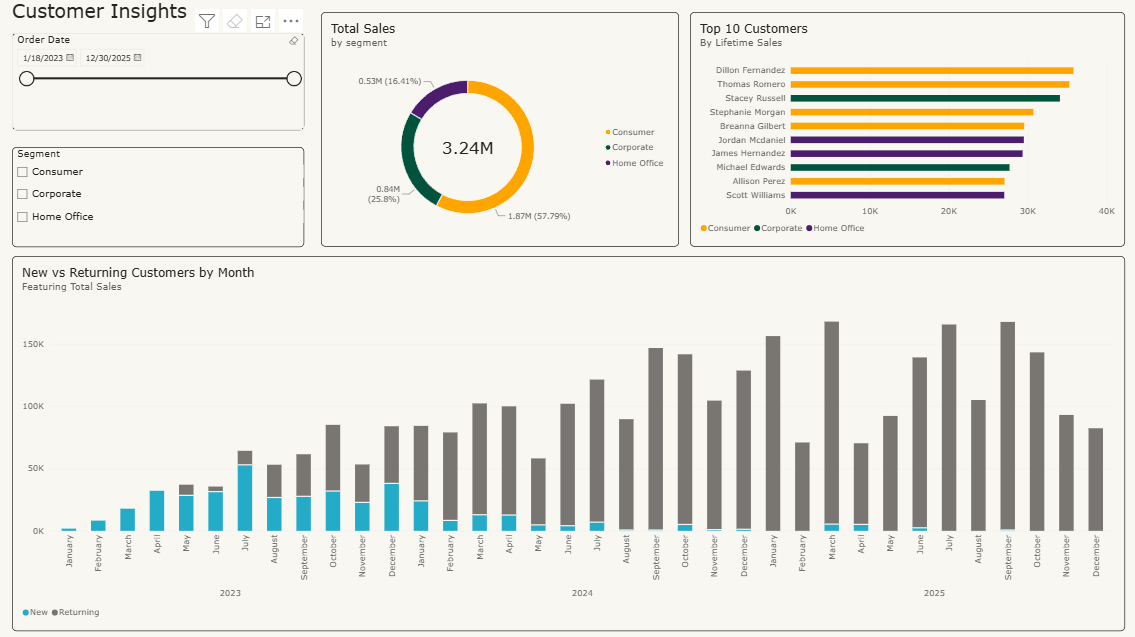

The page's visual inventory and layout, read from the dashboard file:
{"tool":"powerbi","page":{"name":"Page 3","canvas":[1920,1080],"ordinal":2},"visuals":[{"type":"textbox","box":[21.9,0,302,42.2],"z":0},{"type":"donutChart","fields":{"Y":["orders.Total Sales"],"Category":["customers.segment"]},"box":[543.3,21.9,604,396.5],"z":1000},{"type":"barChart","title":"Top 10 Customers","fields":{"Category":["customers.customer_name"],"Y":["orders.Total Sales"],"Series":["customers.segment"]},"box":[1165.8,21.9,733.9,396.5],"z":2000},{"type":"columnChart","title":"New vs Returning Customers by Month","fields":{"Series":["orders.Customer Status"],"Y":["orders.Total Sales"],"Category":["orders.order_date.Variation.Date Hierarchy.Year","orders.order_date.Variation.Date Hierarchy.Month"]},"box":[21.9,433.6,1877.8,632.7],"z":3000},{"type":"slicer","fields":{"Values":["orders.order_date"]},"box":[21.9,57.4,492.7,163.7],"z":4000},{"type":"slicer","fields":{"Values":["customers.segment"]},"box":[21.9,249.7,492.7,168.7],"z":5000}]}

Visuals, with their boxes in screenshot pixels (x1, y1, x2, y2), scaled from the page's 1920x1080 canvas onto the 1135x637 screenshot:
textbox: Rect(13, 0, 191, 25)
donutChart - orders.Total Sales x customers.segment: Rect(321, 13, 678, 247)
"Top 10 Customers" barChart: Rect(689, 13, 1123, 247)
"New vs Returning Customers by Month" columnChart: Rect(13, 256, 1123, 629)
slicer - orders.order_date: Rect(13, 34, 304, 130)
slicer - customers.segment: Rect(13, 147, 304, 247)
